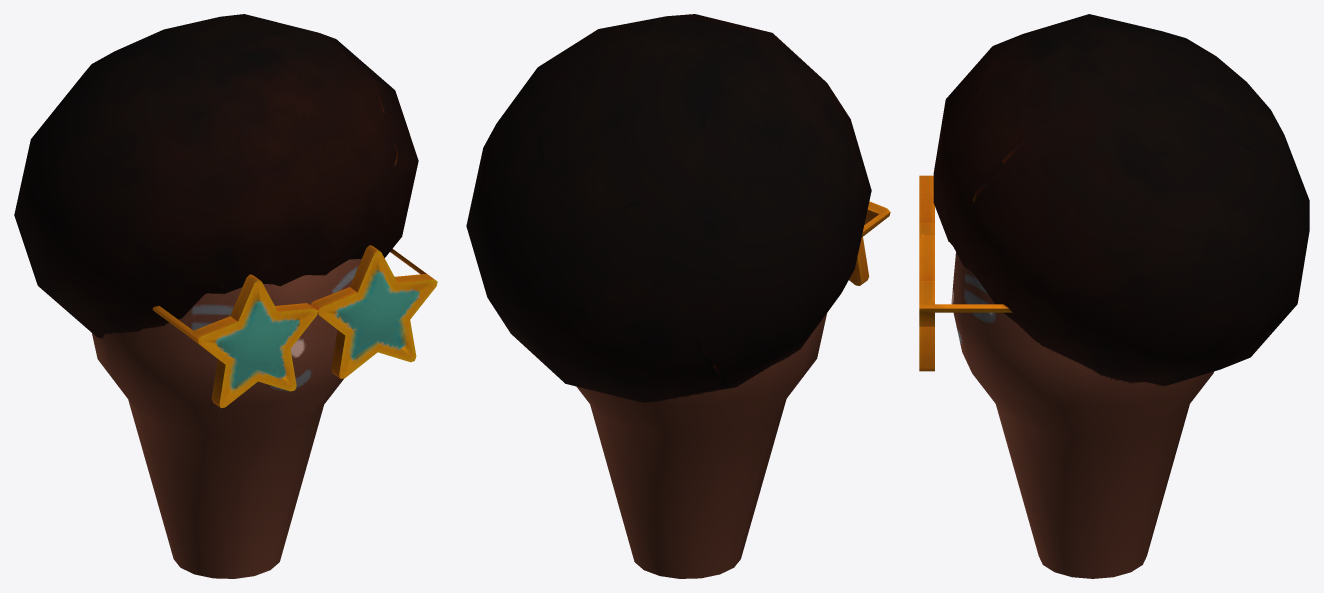
The model's file is head4.glb.
3 views of the same model, side by side, from view 1: azimuth 30°, elevation 25°; view 2: azimuth 150°, elevation 25°; view 3: azimuth 270°, elevation 25° (orthographic).
Parts seen in each view (by area): view 1: head4_1; view 2: head4_1; view 3: head4_1.
Boxes of the visible parts, x1,y1,x2,y2 form: head4_1: [14, 14, 437, 578]; head4_1: [466, 14, 890, 578]; head4_1: [919, 14, 1309, 578].
Size of the model in its own units: 2.29 by 3.28 by 2.24.
Materials: 1 (1 with a texture image).
